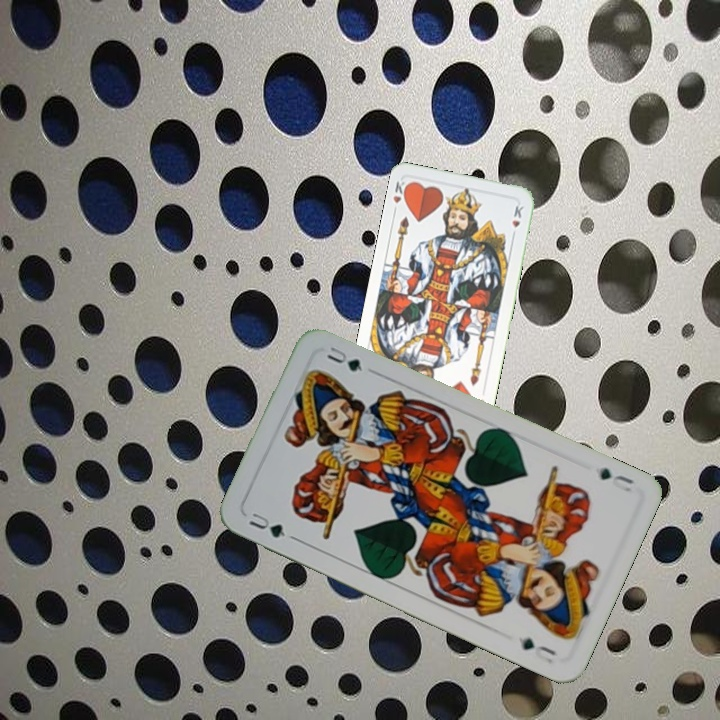GU: (245, 508, 288, 541), (595, 463, 637, 495)
HK: (389, 176, 411, 216)
